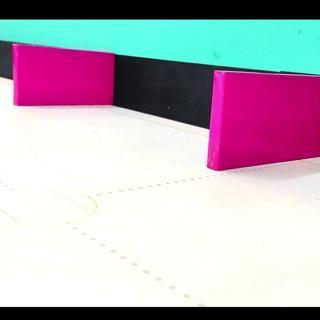xparking: (217, 76, 320, 178), (18, 55, 112, 113)
